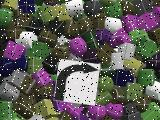Right: (54, 59, 100, 106)
